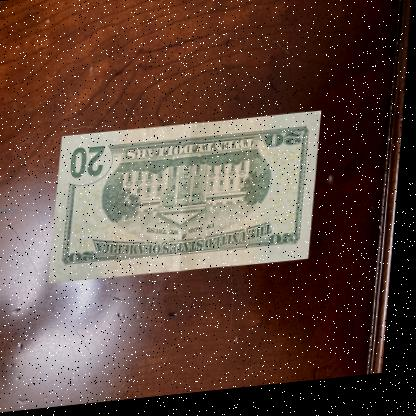twenty-back: (52, 114, 324, 287)
